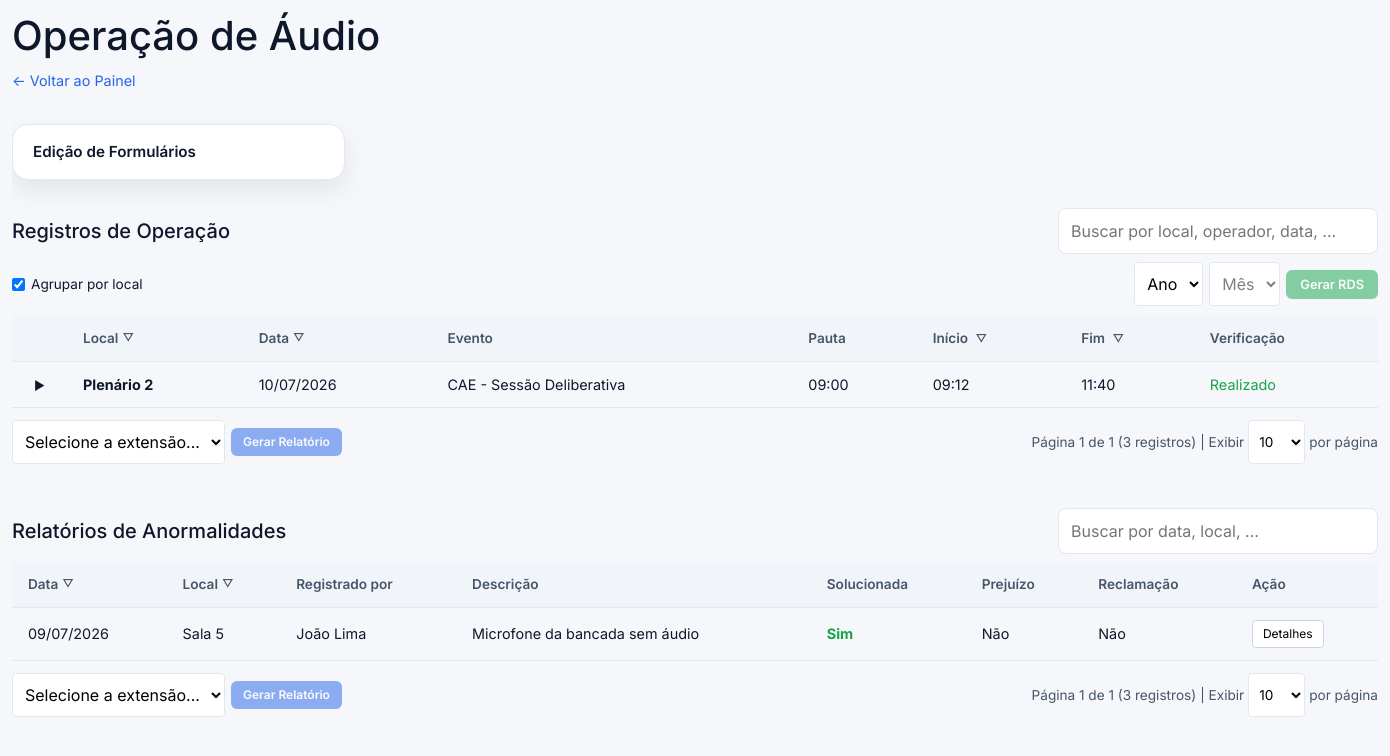
Test: AdminOperacaoAudioComponent — canal de erro das 3 listagens › acordeões › entradas da sessão (modo agrupado) › o sticky morreu: fechar e reabrir REFAZ o GET; o sucesso renderiza as entradas
Click the row with class "row-clickable": (695, 385) 12,361 -> 1378,408
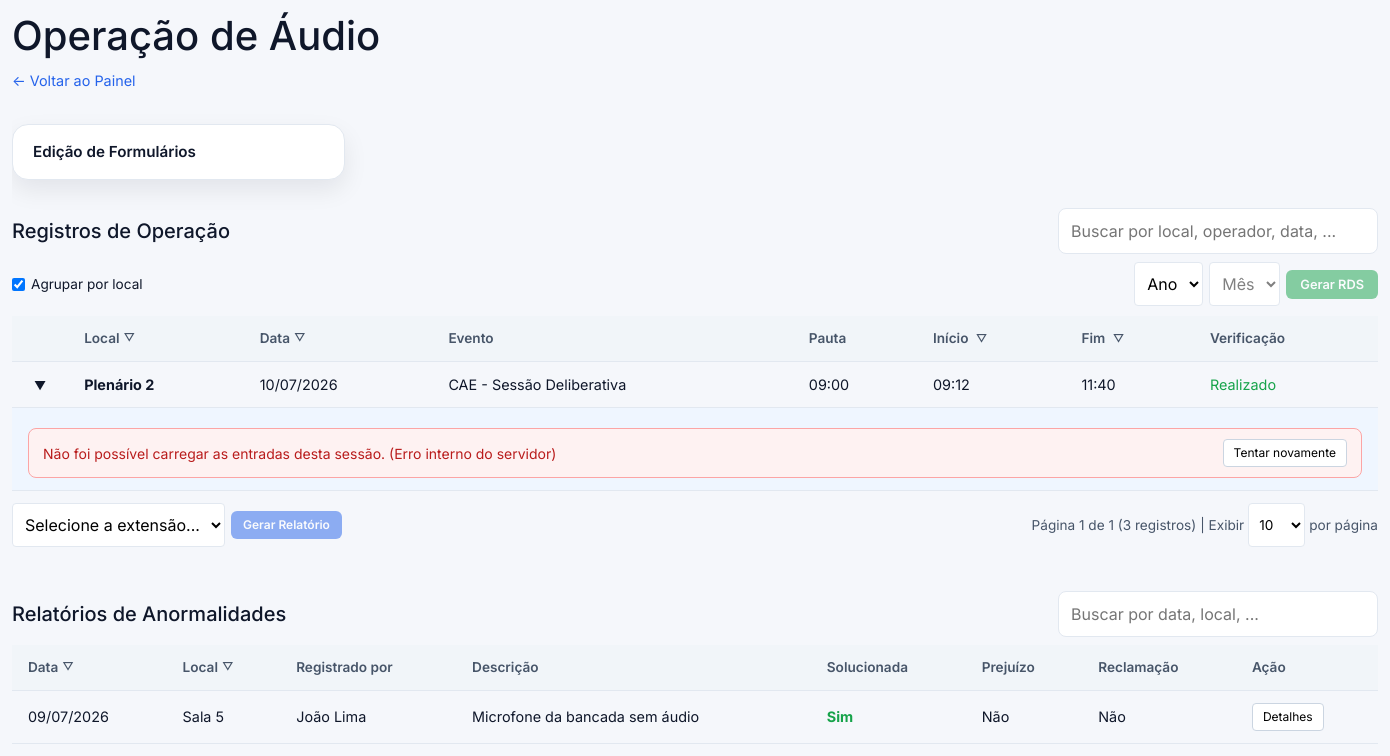
Click the row with class "row-clickable": (695, 385) 12,361 -> 1378,408
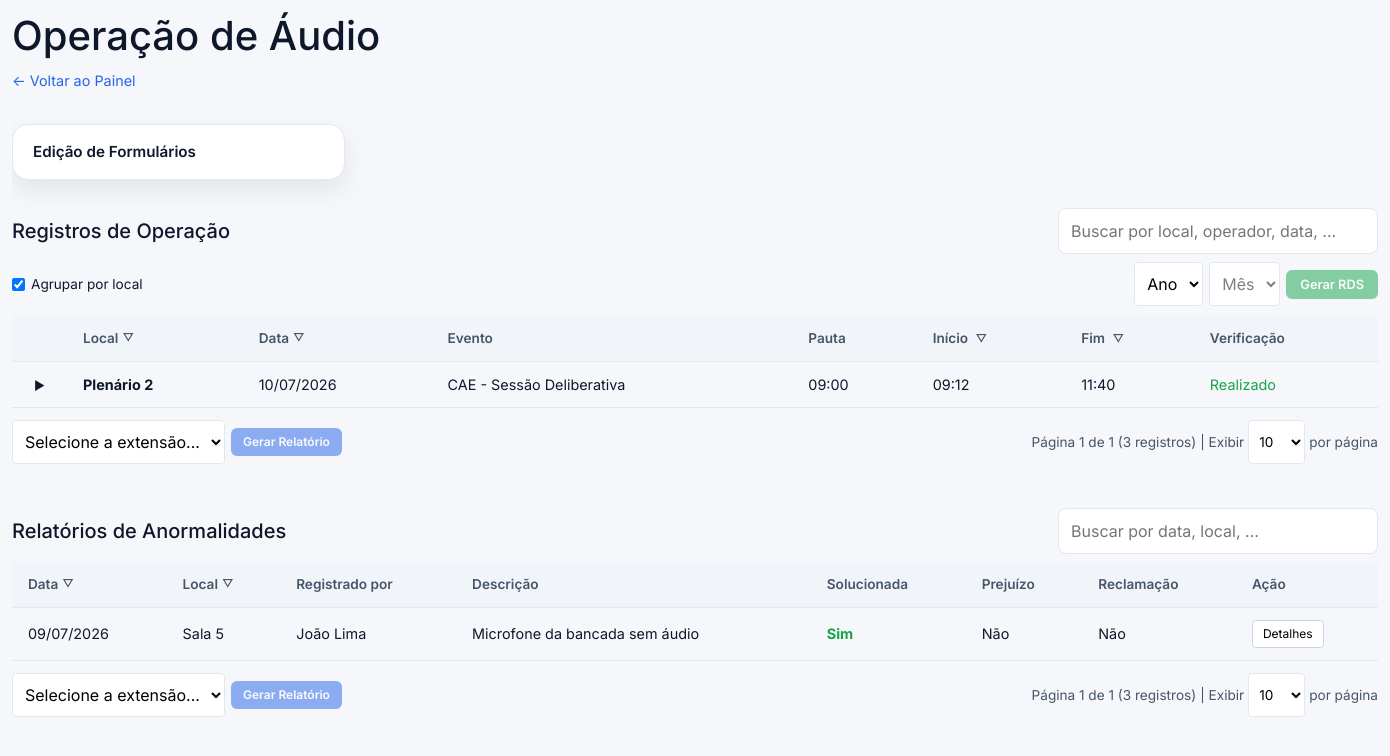
Click the row with class "row-clickable": (695, 385) 12,361 -> 1378,408
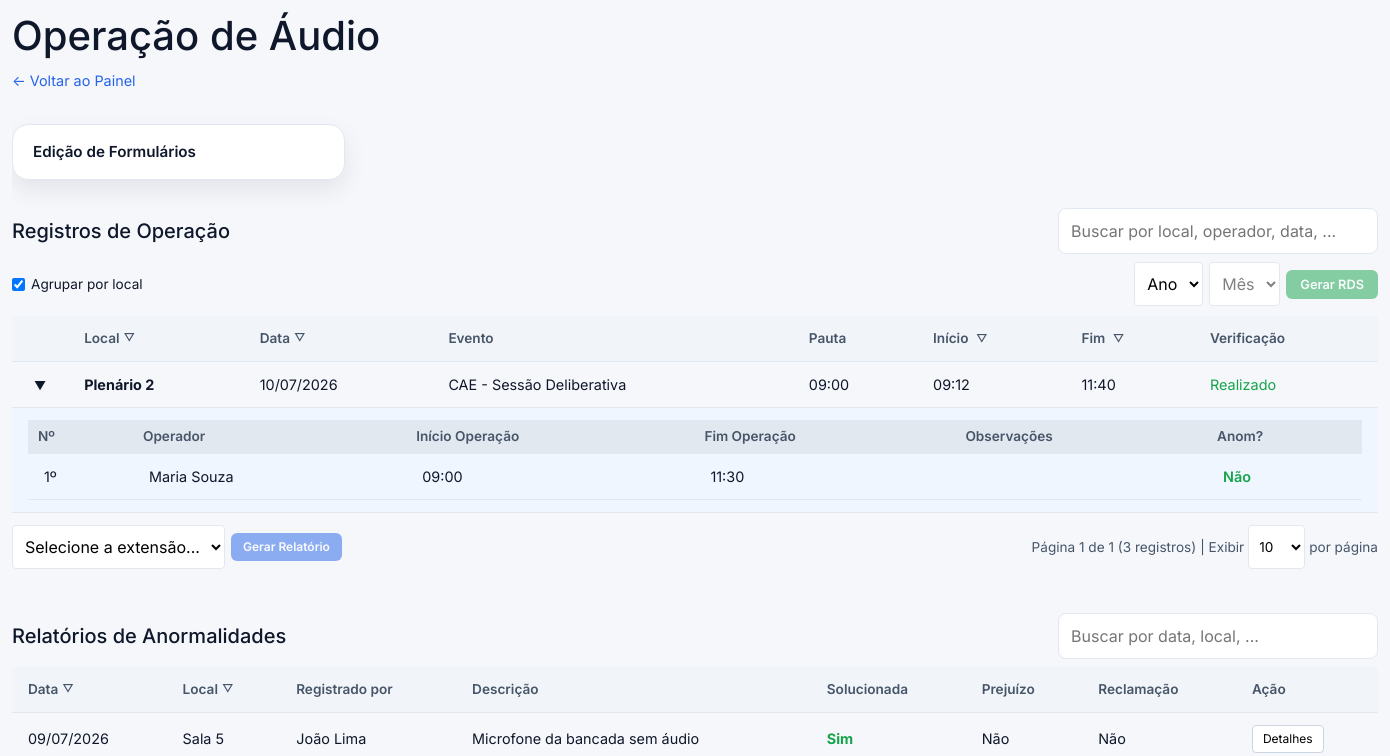
Check: the table that starts with "Plenário 2" shows "Maria Souza", box 149,468 -> 234,485
